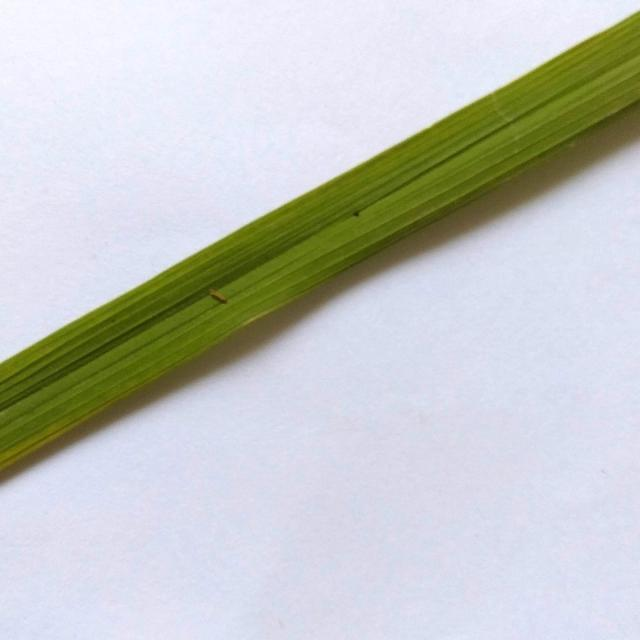healthy: (0, 1, 640, 496)
